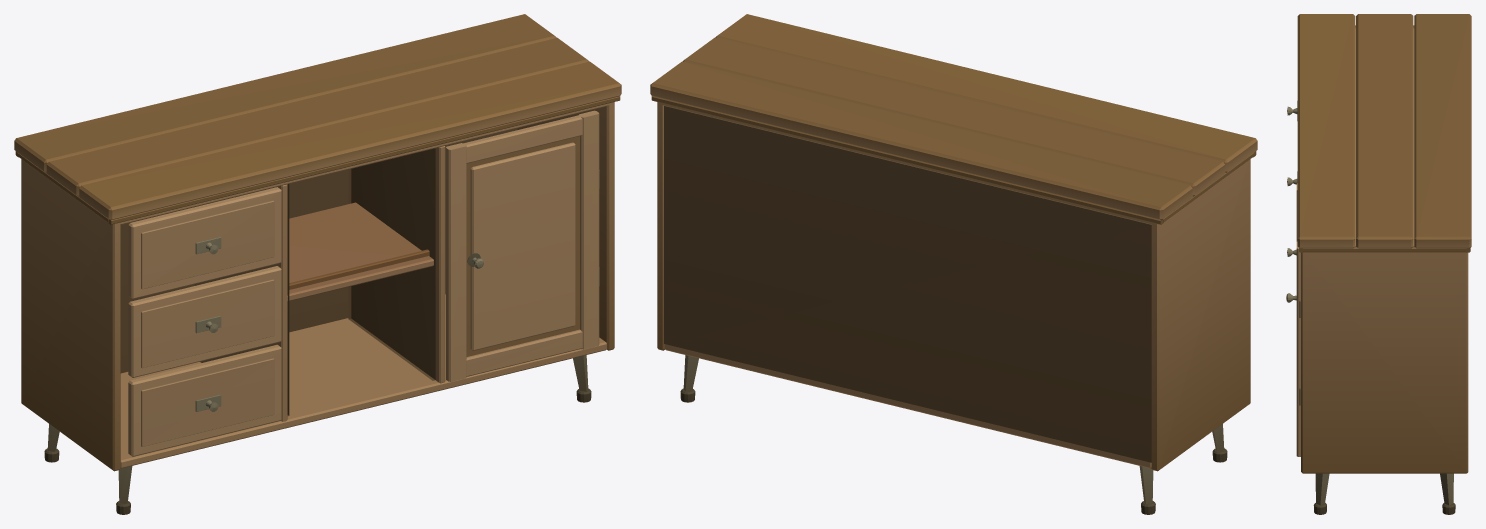
File: dining-sideboard.glb
The picture shows the model from 3 angles, left to right: view 1: azimuth 30°, elevation 25°; view 2: azimuth 150°, elevation 25°; view 3: azimuth 270°, elevation 25°; orthographic projection. The views are drawn at different scales.
Visible parts, largest first — view 1: dining_sideboard; view 2: dining_sideboard; view 3: dining_sideboard.
Boxes of the visible parts, box(x1,y1,x2,y2) form: dining_sideboard: box(14, 14, 621, 514); dining_sideboard: box(650, 14, 1257, 514); dining_sideboard: box(1286, 14, 1471, 514).
Size of the model in its own units: 1.43 by 0.85 by 0.499.
